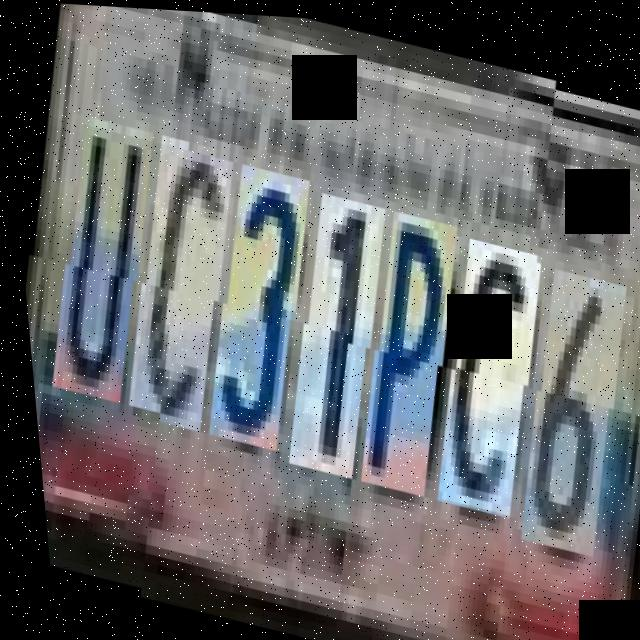1: (266, 187, 401, 479)
3: (186, 159, 326, 452)
6: (498, 250, 640, 545)
C: (105, 139, 250, 434), (414, 231, 556, 516)
P: (338, 204, 473, 496)
U: (29, 121, 169, 415)
